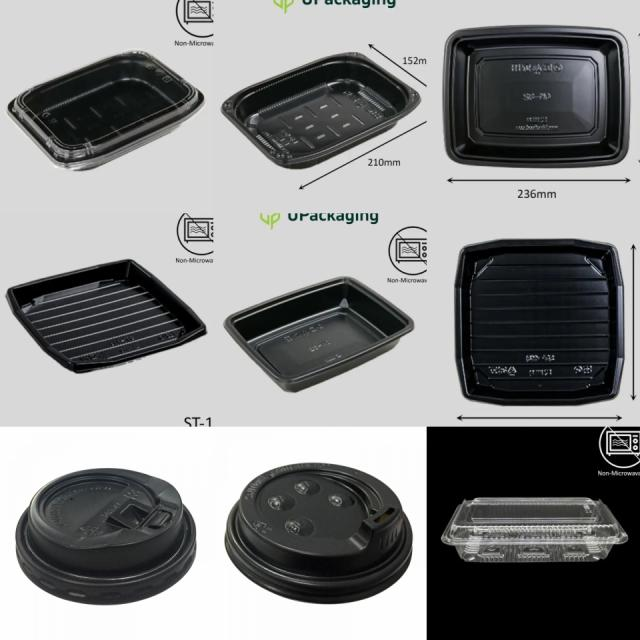Single-Use-Plastic: (455, 240, 624, 405), (225, 462, 412, 603), (444, 26, 630, 167), (15, 469, 196, 604), (8, 51, 204, 170), (222, 52, 420, 168), (6, 260, 206, 372), (224, 278, 414, 391), (441, 498, 628, 562)
